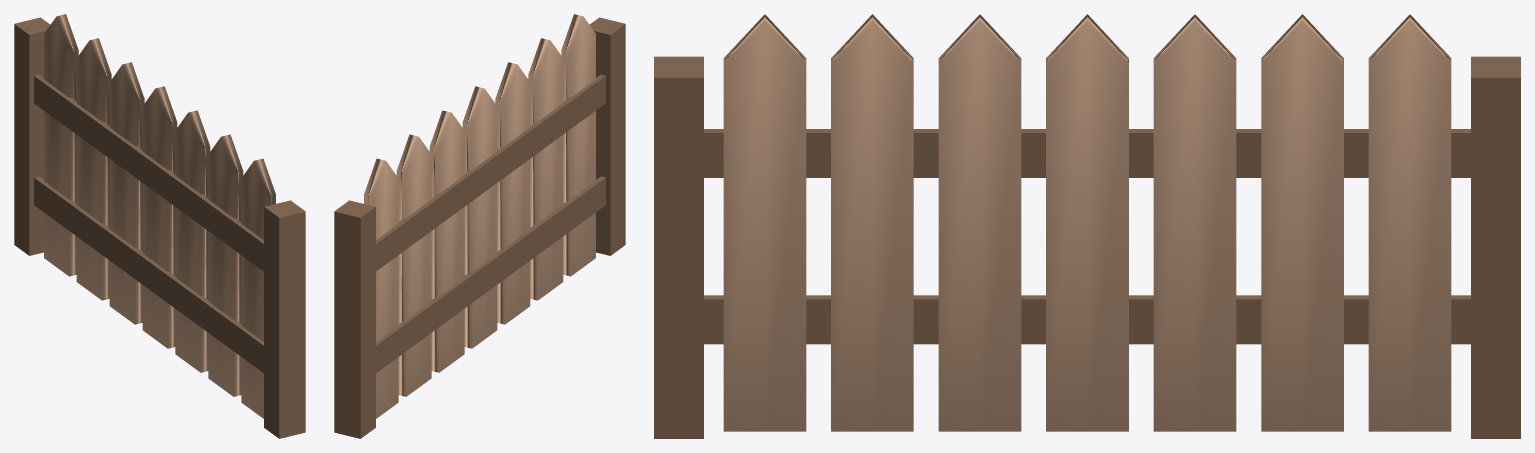
The model's file is fence.fbx.
3 views of the same model, side by side, from view 1: azimuth 30°, elevation 25°; view 2: azimuth 150°, elevation 25°; view 3: azimuth 270°, elevation 25° (orthographic). The views are drawn at different scales.
Parts seen in each view (by area): view 1: fence, also a post, post; view 2: fence, post, also a post; view 3: fence, also a post, post.
Boxes of the visible parts, x1,y1,x2,y2 form: fence: (34,14,275,418); also a post: (264,200,305,438); post: (14,17,50,255); fence: (364,14,605,418); post: (334,200,375,438); also a post: (589,17,625,255); fence: (704,14,1470,431); also a post: (654,56,703,438); post: (1471,56,1520,438).
Bounding box in the file's own units: 100 × 910 × 1740.
